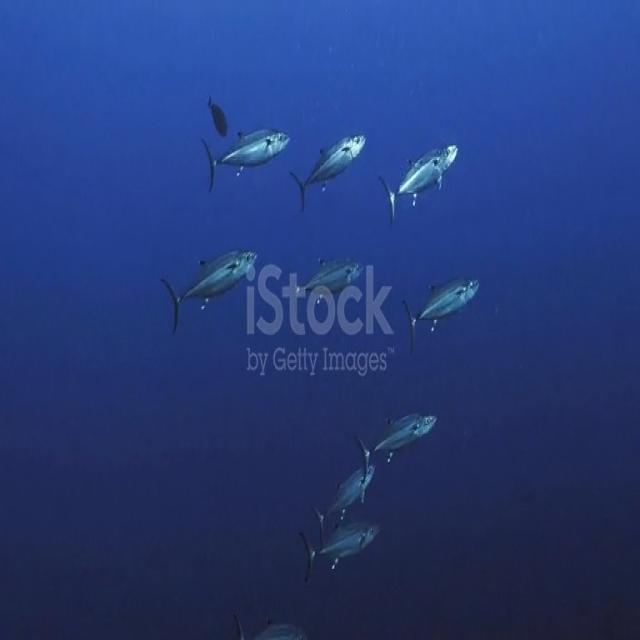fish: (163, 245, 274, 331), (376, 124, 464, 229), (292, 105, 366, 213), (399, 268, 485, 358), (350, 402, 441, 476), (200, 124, 293, 188), (308, 463, 387, 538), (294, 254, 372, 307), (296, 534, 389, 572), (237, 609, 310, 639), (208, 96, 232, 139)
